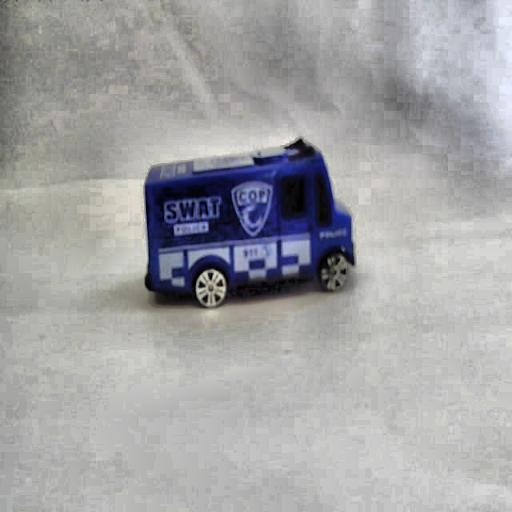police car: (139, 133, 357, 326)
